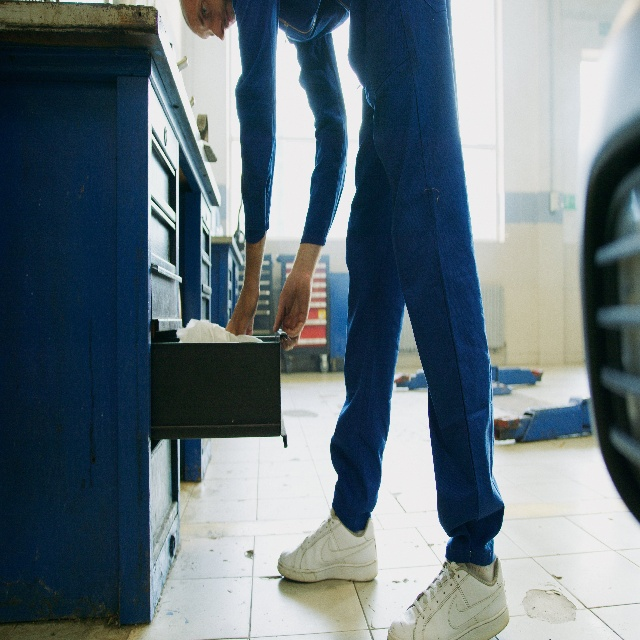Sin_guantes: (272, 269, 312, 351), (225, 283, 260, 336)
